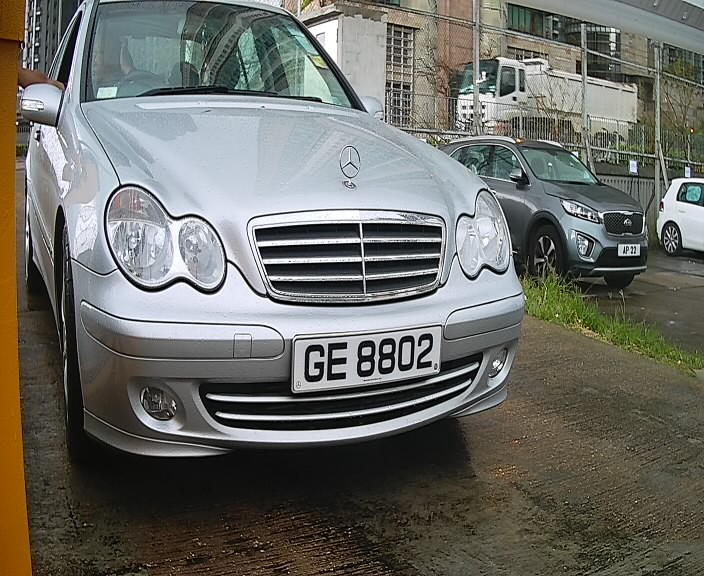Car: (13, 2, 539, 518)
License Plate: (276, 318, 460, 411)
